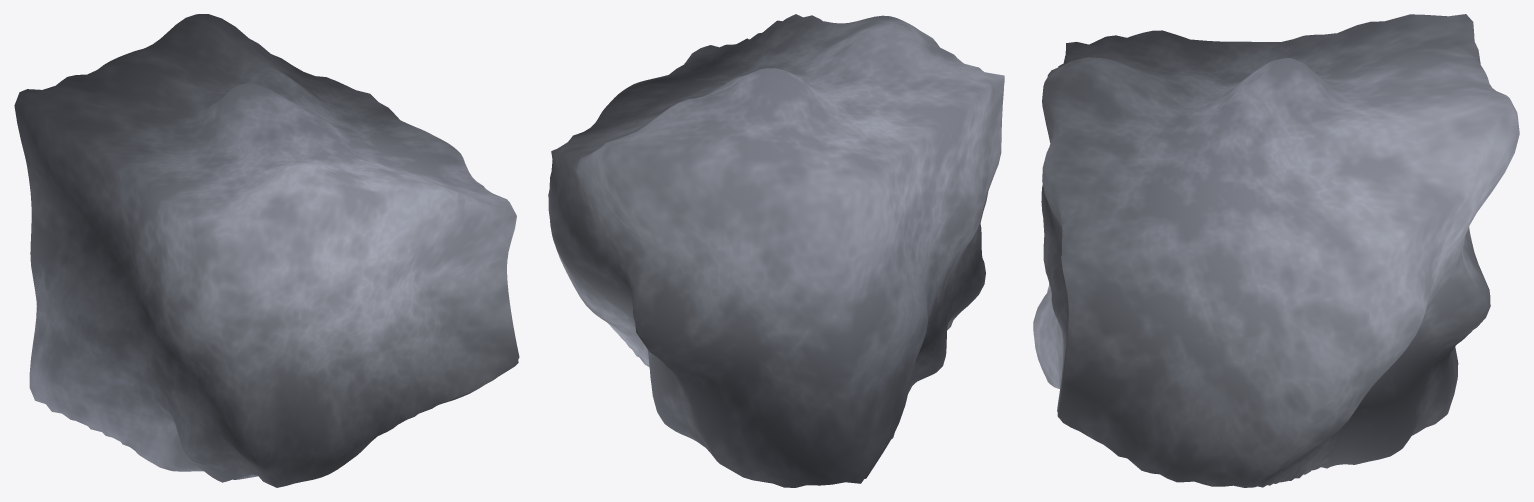
File: asteroid-prism.glb
3 renders of one model, left to right at view 1: azimuth 30°, elevation 25°; view 2: azimuth 150°, elevation 25°; view 3: azimuth 270°, elevation 25°, orthographic. The views are drawn at different scales.
Visible parts, largest first — view 1: asteroid_3001; view 2: asteroid_3001; view 3: asteroid_3001.
Boxes of the visible parts, x1,y1,x2,y2 form: asteroid_3001: (14,14,519,487); asteroid_3001: (548,14,1004,487); asteroid_3001: (1033,14,1519,487).
Bounding box in the file's own units: 37.49 × 36.14 × 39.37.
1 material, 1 textured.
